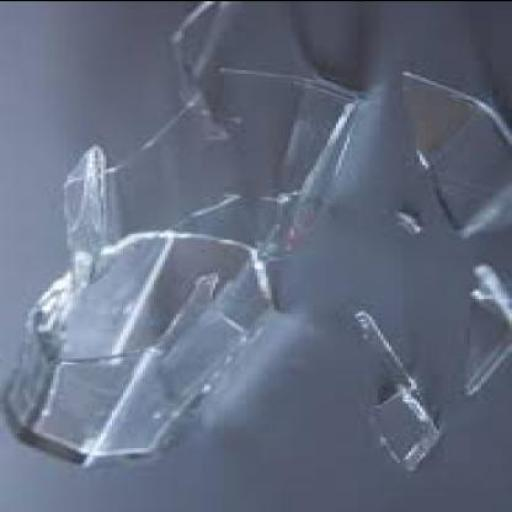glass: (0, 229, 277, 465), (204, 63, 352, 257), (401, 67, 509, 231), (356, 310, 439, 467), (101, 87, 213, 186), (168, 1, 232, 138), (58, 142, 109, 283), (156, 188, 274, 248), (462, 256, 509, 394), (386, 207, 414, 229)
